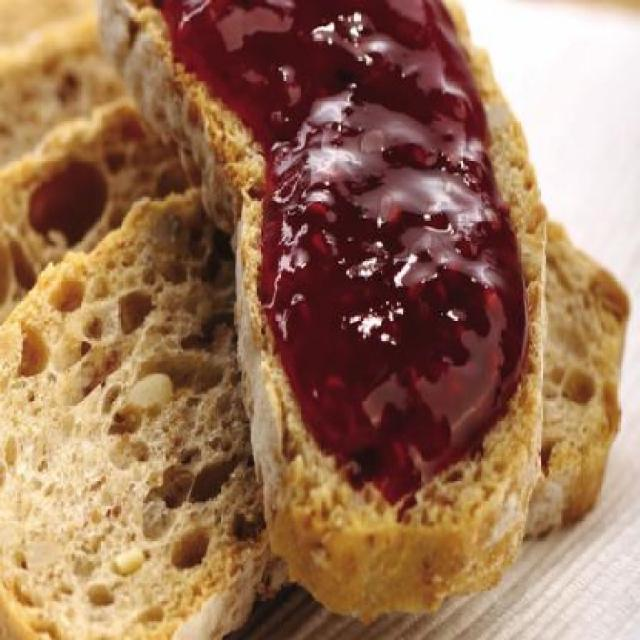Spread: (151, 2, 534, 500)
